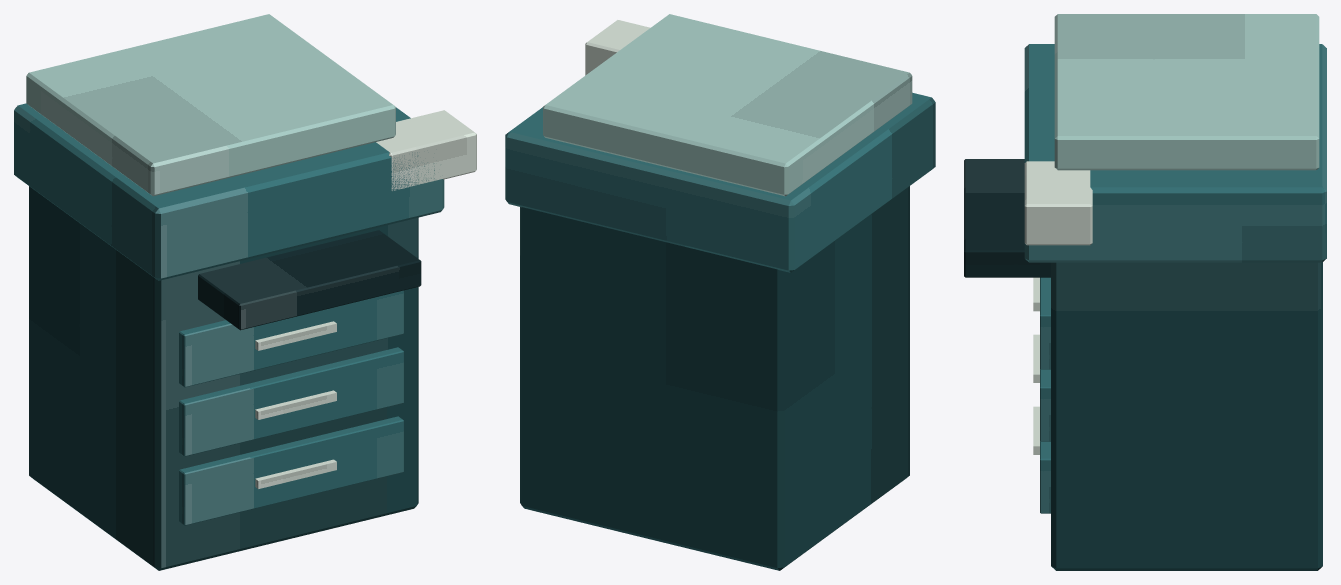
File: office_photocopier_teal.glb
3 views of the same model, side by side, from view 1: azimuth 30°, elevation 25°; view 2: azimuth 150°, elevation 25°; view 3: azimuth 270°, elevation 25° (orthographic). The views are drawn at different scales.
Parts seen in each view (by area): view 1: CopierBase, ScannerLid, ScannerBody, OutputTray, PaperDrawer_1, PaperDrawer_0, PaperDrawer_2, ControlPanel, DrawerHandle_2, DrawerHandle_0, DrawerHandle_1; view 2: CopierBase, ScannerLid, ScannerBody, ControlPanel; view 3: CopierBase, ScannerLid, ScannerBody, OutputTray, ControlPanel, PaperDrawer_2, PaperDrawer_0, PaperDrawer_1.
Part boxes in pixels (bbox=[...]): CopierBase: bbox=[29, 186, 418, 570]; ScannerLid: bbox=[26, 14, 395, 196]; ScannerBody: bbox=[14, 103, 444, 280]; OutputTray: bbox=[198, 230, 421, 330]; PaperDrawer_1: bbox=[179, 347, 403, 456]; PaperDrawer_0: bbox=[179, 416, 403, 525]; PaperDrawer_2: bbox=[179, 290, 403, 387]; ControlPanel: bbox=[376, 110, 476, 190]; DrawerHandle_2: bbox=[255, 321, 336, 350]; DrawerHandle_0: bbox=[255, 459, 336, 488]; DrawerHandle_1: bbox=[255, 390, 336, 419]; CopierBase: bbox=[520, 186, 909, 570]; ScannerLid: bbox=[543, 14, 912, 196]; ScannerBody: bbox=[505, 92, 935, 272]; ControlPanel: bbox=[585, 20, 650, 75]; CopierBase: bbox=[1051, 262, 1322, 570]; ScannerLid: bbox=[1054, 14, 1319, 170]; ScannerBody: bbox=[1024, 44, 1326, 262]; OutputTray: bbox=[964, 159, 1050, 277]; ControlPanel: bbox=[1024, 161, 1092, 245]; PaperDrawer_2: bbox=[1040, 277, 1050, 369]; PaperDrawer_0: bbox=[1040, 441, 1050, 513]; PaperDrawer_1: bbox=[1040, 369, 1050, 441].
Bounding box in the file's own units: 1.02 × 1.24 × 0.96.
1 material, 1 textured.
